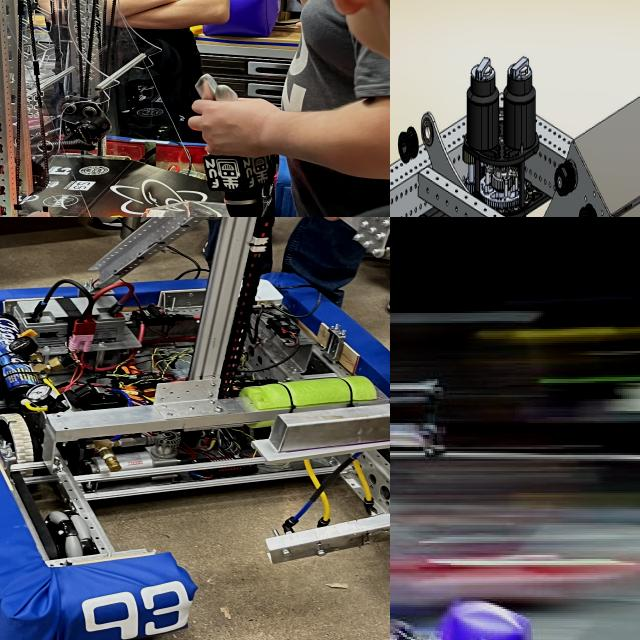FRC-Robots: (0, 217, 390, 640), (390, 217, 561, 640), (0, 0, 321, 217), (390, 22, 640, 217)
